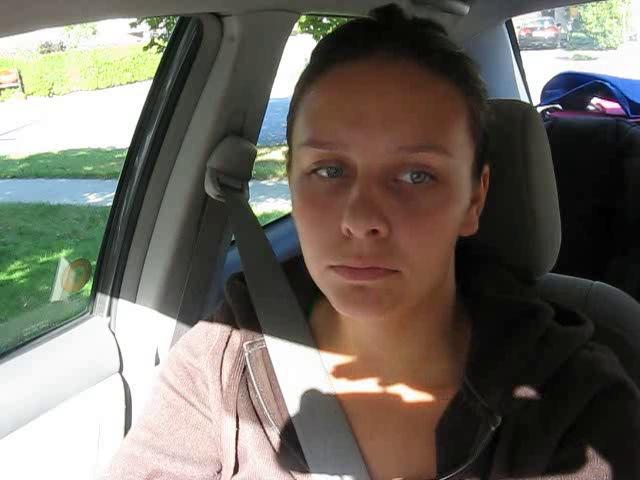no_yawn: (310, 244, 409, 300)
open_eyeL: (296, 151, 359, 191)
open_eyeR: (383, 154, 456, 199)
